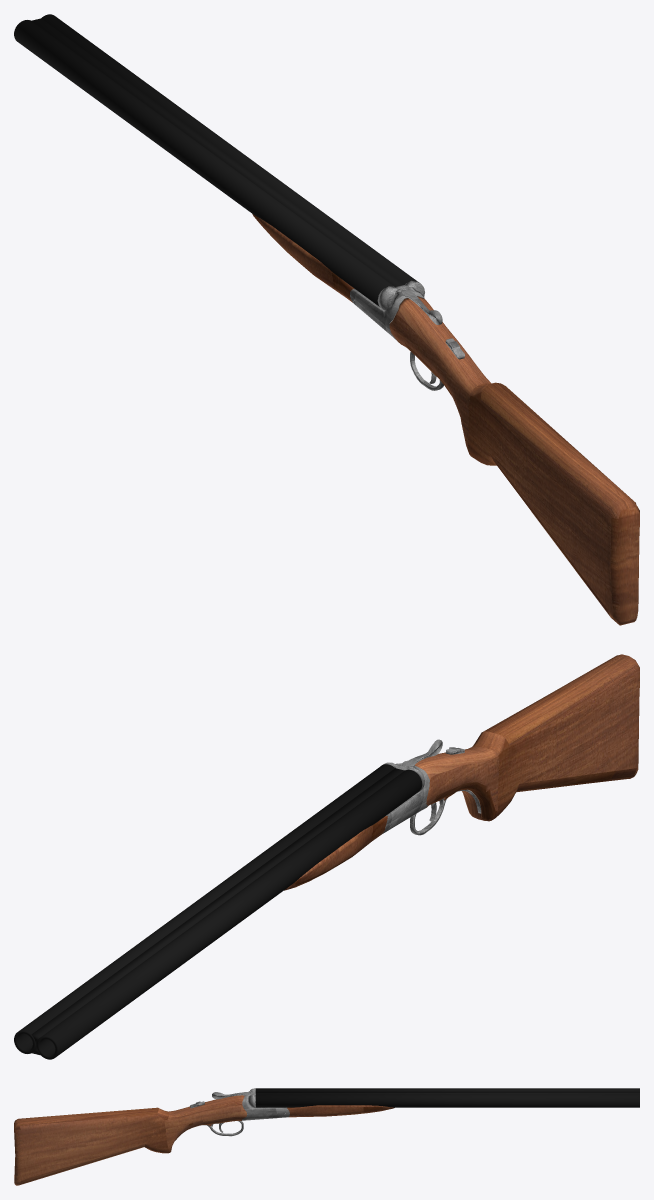
File: double_barrel_shotgun.fbx
3 renders of one model, top to bottom at view 1: azimuth 30°, elevation 25°; view 2: azimuth 150°, elevation 25°; view 3: azimuth 270°, elevation 25°, orthographic. The views are drawn at different scales.
Visible parts, largest first — view 1: Cube.003, Barrel, Cylinder.002, Cube.002; view 2: Barrel, Cube.003, Cylinder.002, Cube.002; view 3: Cube.003, Barrel, Cylinder.002, Cube.002.
Boxes of the visible parts, bbox=[...] form: Cube.003: bbox=[389, 296, 639, 625]; Barrel: bbox=[14, 14, 416, 306]; Cylinder.002: bbox=[350, 280, 464, 390]; Cube.002: bbox=[252, 214, 354, 302]; Barrel: bbox=[14, 764, 422, 1059]; Cube.003: bbox=[415, 654, 639, 821]; Cylinder.002: bbox=[381, 739, 481, 835]; Cube.002: bbox=[284, 816, 387, 890]; Cube.003: bbox=[14, 1095, 246, 1185]; Barrel: bbox=[255, 1088, 639, 1107]; Cylinder.002: bbox=[190, 1088, 289, 1136]; Cube.002: bbox=[287, 1105, 394, 1117].
Bounding box in the file's own units: 21.15 × 74.24 × 456.
5 materials, 2 textured.
